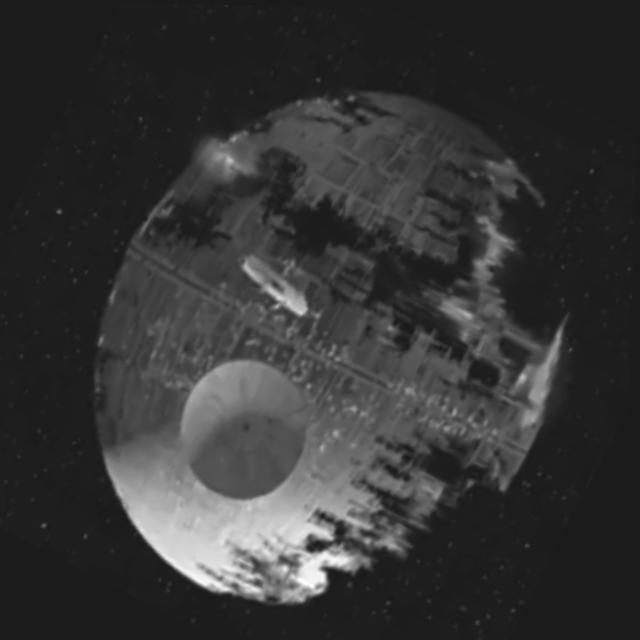death-stars: (95, 88, 577, 602)
